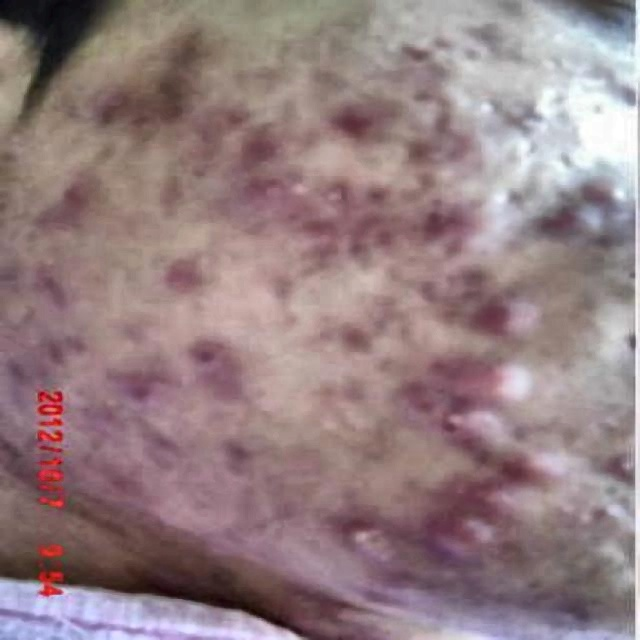nodule: (74, 462, 194, 511), (93, 376, 191, 420), (78, 85, 164, 134), (131, 31, 233, 69), (327, 90, 413, 134), (255, 270, 309, 339), (413, 206, 522, 240), (474, 288, 536, 344), (434, 372, 536, 406), (486, 452, 584, 485), (149, 70, 218, 116), (178, 116, 255, 156), (40, 266, 113, 305), (424, 417, 502, 453), (49, 180, 113, 222), (167, 245, 224, 292), (102, 308, 171, 345), (309, 376, 373, 415), (124, 420, 189, 456), (431, 252, 491, 290), (551, 206, 600, 250), (335, 313, 389, 352), (189, 439, 249, 471), (249, 172, 315, 201), (316, 185, 384, 213), (196, 372, 251, 406), (22, 343, 74, 378), (564, 172, 616, 207), (291, 242, 340, 279), (307, 212, 360, 246), (380, 556, 433, 589), (196, 339, 247, 373), (244, 125, 286, 166), (584, 500, 634, 534), (411, 478, 465, 508), (247, 496, 284, 539), (387, 279, 438, 310), (467, 487, 518, 517), (404, 140, 449, 174), (156, 173, 187, 222), (596, 448, 638, 484), (389, 48, 447, 74), (336, 523, 374, 562), (449, 125, 489, 161), (240, 395, 284, 427), (269, 100, 315, 130), (556, 499, 598, 531), (446, 518, 486, 551), (513, 96, 549, 132), (320, 606, 360, 631), (151, 576, 196, 598), (547, 146, 582, 173), (389, 387, 422, 414), (206, 566, 246, 588), (496, 184, 526, 212), (193, 542, 231, 560), (173, 555, 198, 574)
